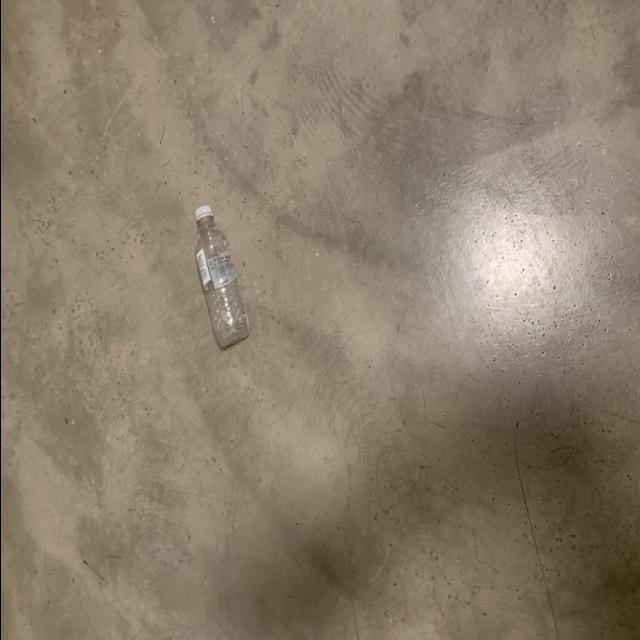PET: (192, 208, 249, 352)
